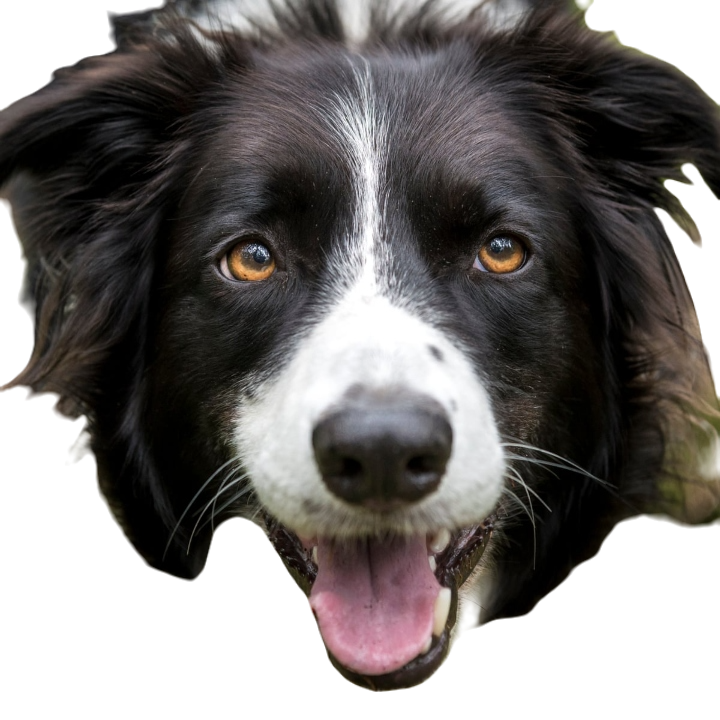Dog: (0, 2, 718, 690)
